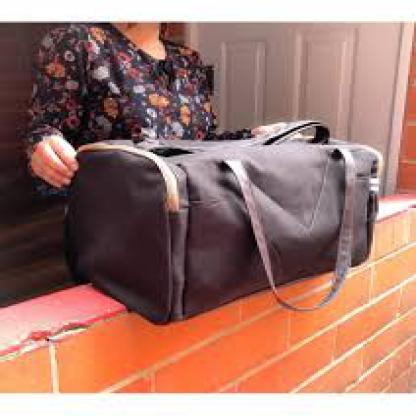morral: (46, 112, 396, 332)
